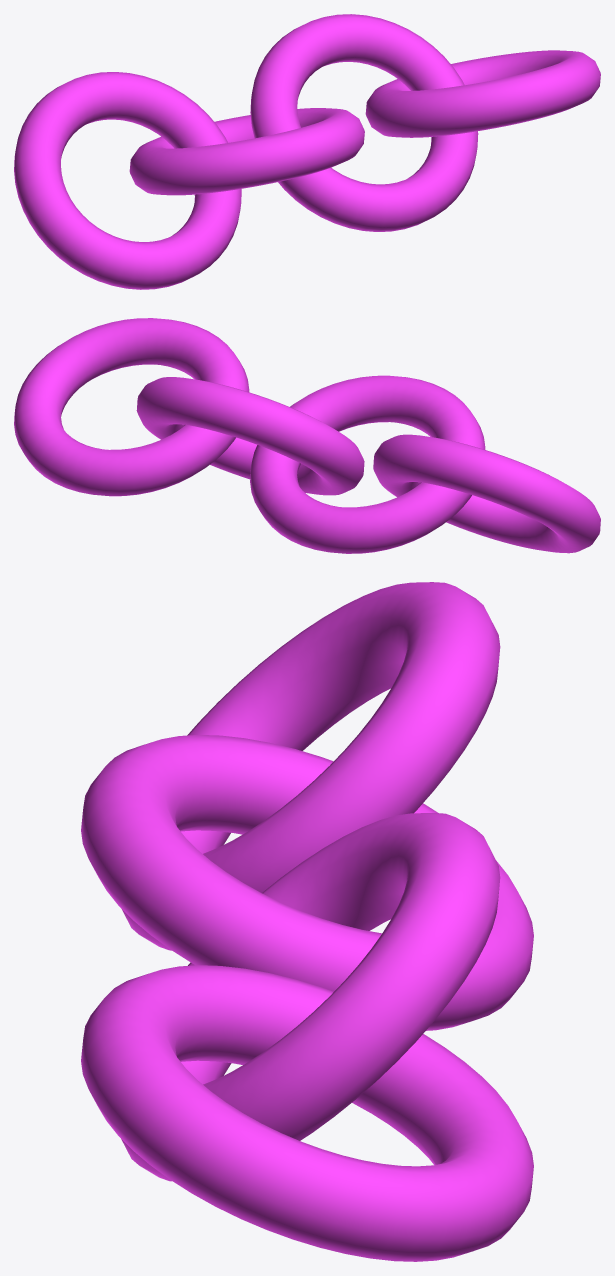
Rendered from Rings2.glb.
The picture shows the model from 3 angles, top to bottom: view 1: azimuth 30°, elevation 25°; view 2: azimuth 150°, elevation 25°; view 3: azimuth 270°, elevation 25°; orthographic projection. The views are drawn at different scales.
Parts seen in each view (by area): view 1: Torus; view 2: Torus; view 3: Torus.
Part boxes in pixels (x1,y1,x2,y2): Torus: (14,14,600,289); Torus: (14,318,600,553); Torus: (81,582,533,1261).
Size of the model in its own units: 1.71 by 0.4499 by 0.5969.
